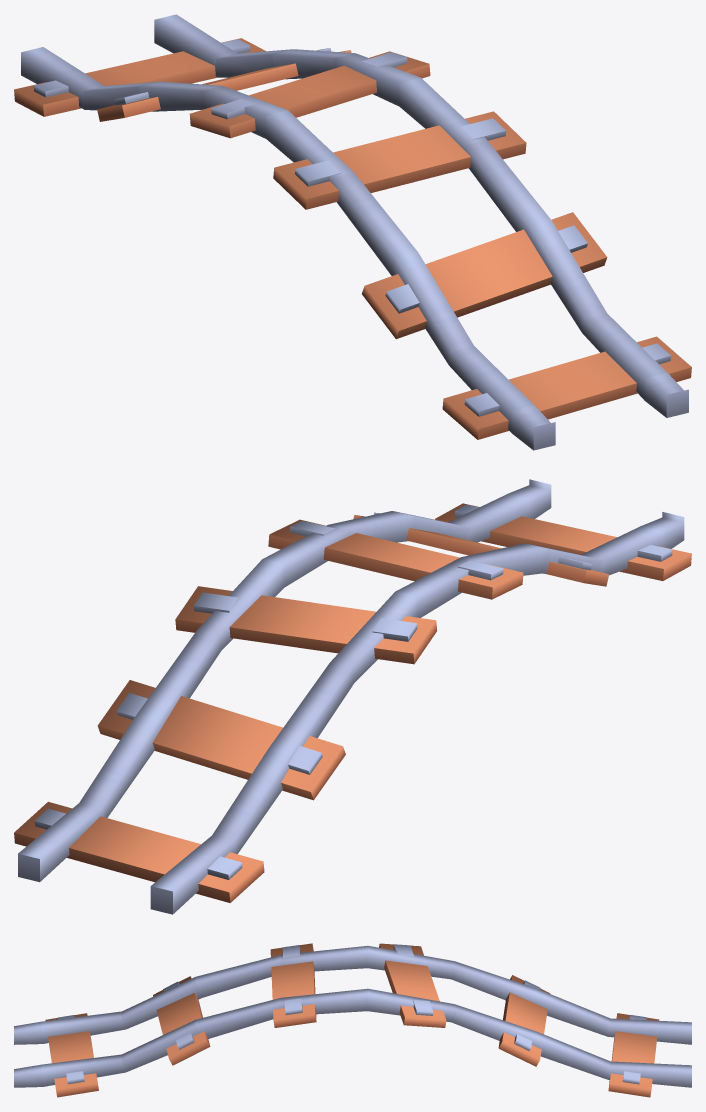
Rendered from kenney-train-railroad-damaged-straight-bump-up.glb.
The picture shows the model from 3 angles, top to bottom: view 1: azimuth 30°, elevation 25°; view 2: azimuth 150°, elevation 25°; view 3: azimuth 270°, elevation 25°; orthographic projection. The views are drawn at different scales.
Visible parts, largest first — view 1: railroad-damaged-straight-bump-up; view 2: railroad-damaged-straight-bump-up; view 3: railroad-damaged-straight-bump-up.
Boxes of the visible parts, x1,y1,x2,y2 form: railroad-damaged-straight-bump-up: [14, 14, 691, 450]; railroad-damaged-straight-bump-up: [14, 479, 691, 914]; railroad-damaged-straight-bump-up: [14, 943, 691, 1097].
Bounding box in the file's own units: 1.03 × 0.5986 × 4.
1 material, 1 textured.
